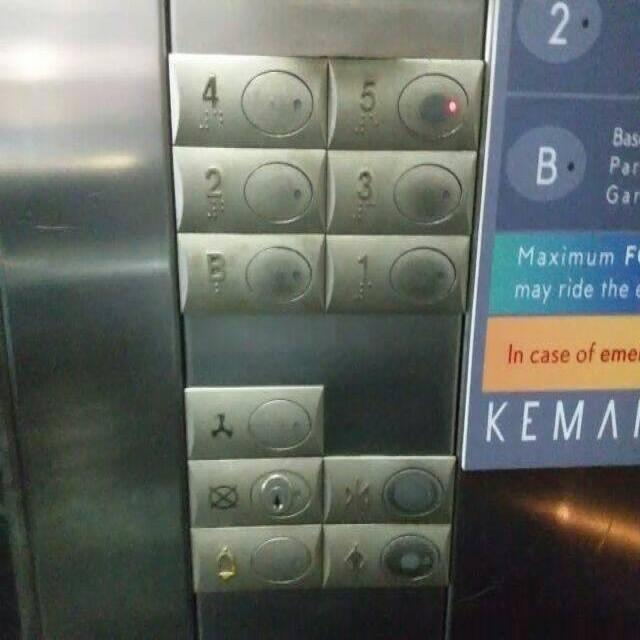1: (324, 228, 472, 317)
2: (166, 140, 330, 237), (513, 0, 605, 69)
3: (324, 142, 480, 238)
4: (165, 48, 331, 151)
5: (324, 49, 487, 155)
B: (173, 225, 328, 320), (502, 120, 588, 205)
alarm: (185, 520, 324, 596)
close: (319, 450, 460, 526)
fan: (178, 380, 326, 460)
open: (317, 520, 452, 593)
stop: (182, 452, 327, 529)
